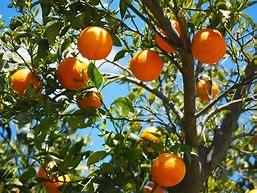orange: (199, 26, 247, 64), (150, 144, 193, 184), (78, 28, 114, 62), (130, 49, 163, 82), (61, 56, 91, 89), (13, 63, 40, 93)
